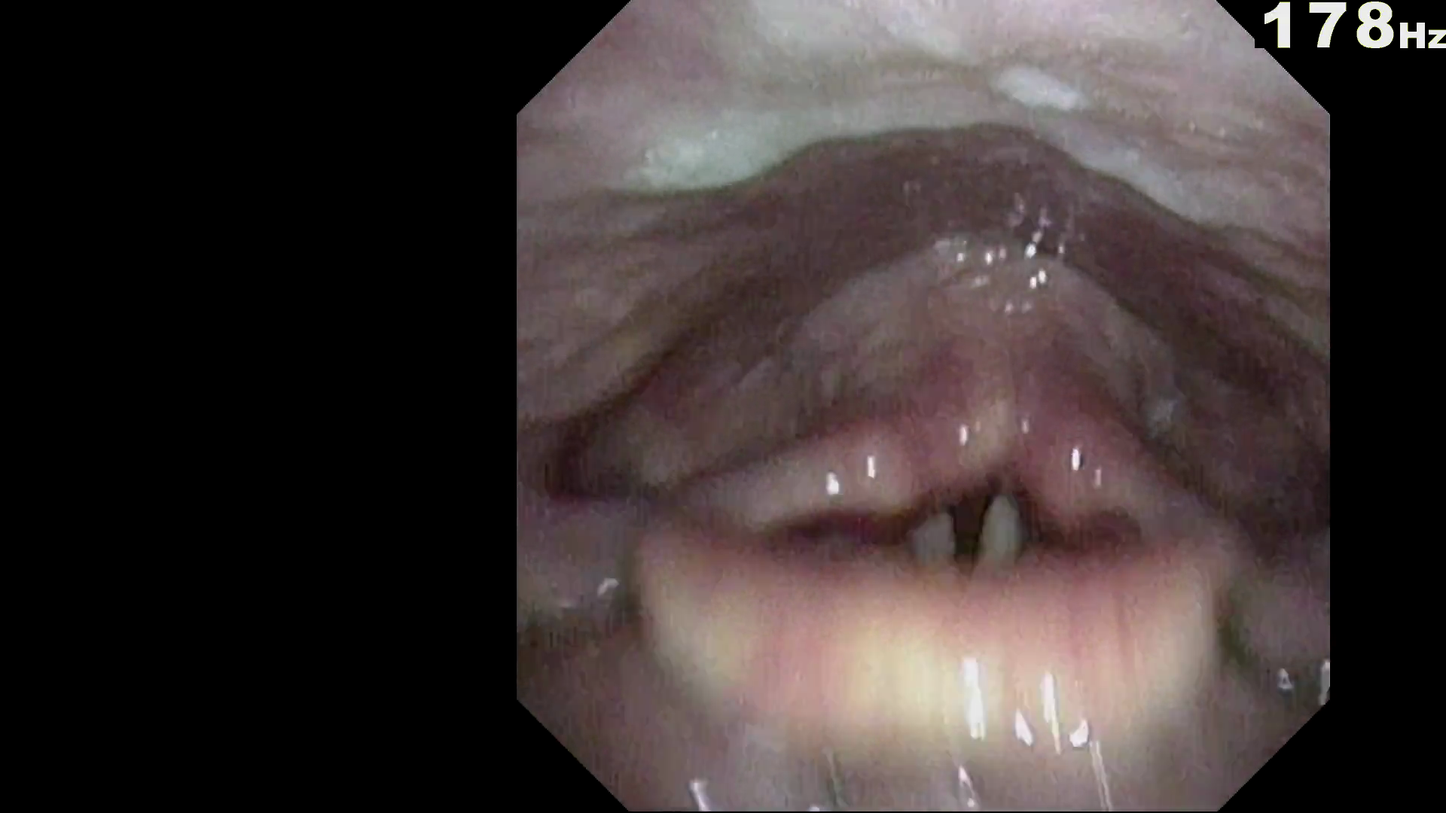epiglottis: (678, 470, 1221, 661)
trachea: (913, 440, 1067, 522)
